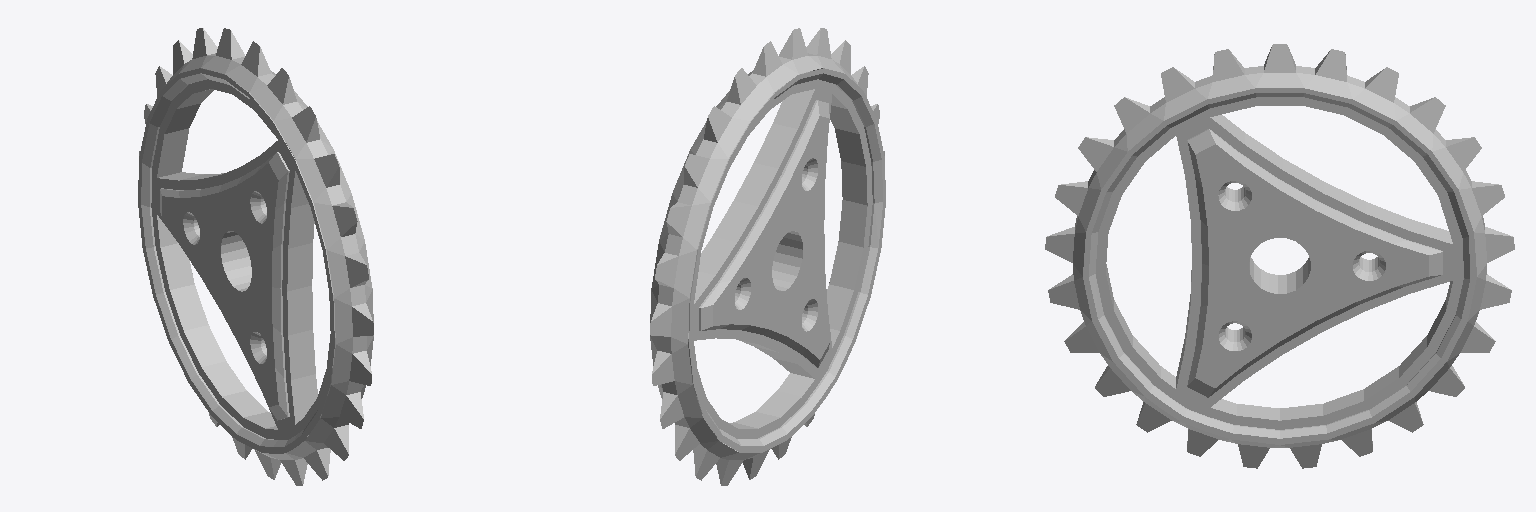
File: Two.obj
3 views of the same model, side by side, from view 1: azimuth 30°, elevation 25°; view 2: azimuth 150°, elevation 25°; view 3: azimuth 270°, elevation 25° (orthographic).
Parts seen in each view (by area): view 1: Two; view 2: Two; view 3: Two.
Boxes of the visible parts, x1,y1,x2,y2 form: Two: [138, 28, 373, 485]; Two: [650, 28, 885, 485]; Two: [1045, 44, 1514, 468].
Bounding box in the file's own units: 0.0096 × 0.0994 × 0.0996.